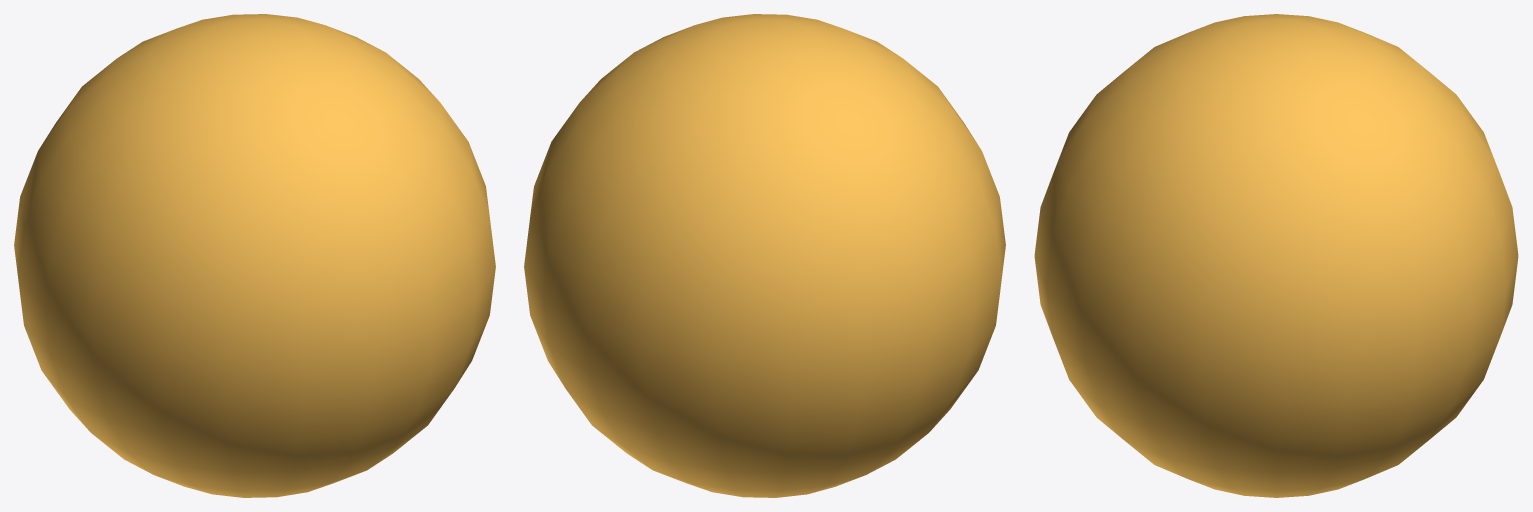
File: balloon_orange.glb
3 renders of one model, left to right at view 1: azimuth 30°, elevation 25°; view 2: azimuth 150°, elevation 25°; view 3: azimuth 270°, elevation 25°, orthographic.
Parts seen in each view (by area): view 1: primitive; view 2: primitive; view 3: primitive.
Part boxes in pixels (x1,y1,x2,y2): primitive: [14, 14, 495, 497]; primitive: [524, 14, 1005, 497]; primitive: [1034, 14, 1518, 497].
Bounding box in the file's own units: 0.24 × 0.24 × 0.24.
